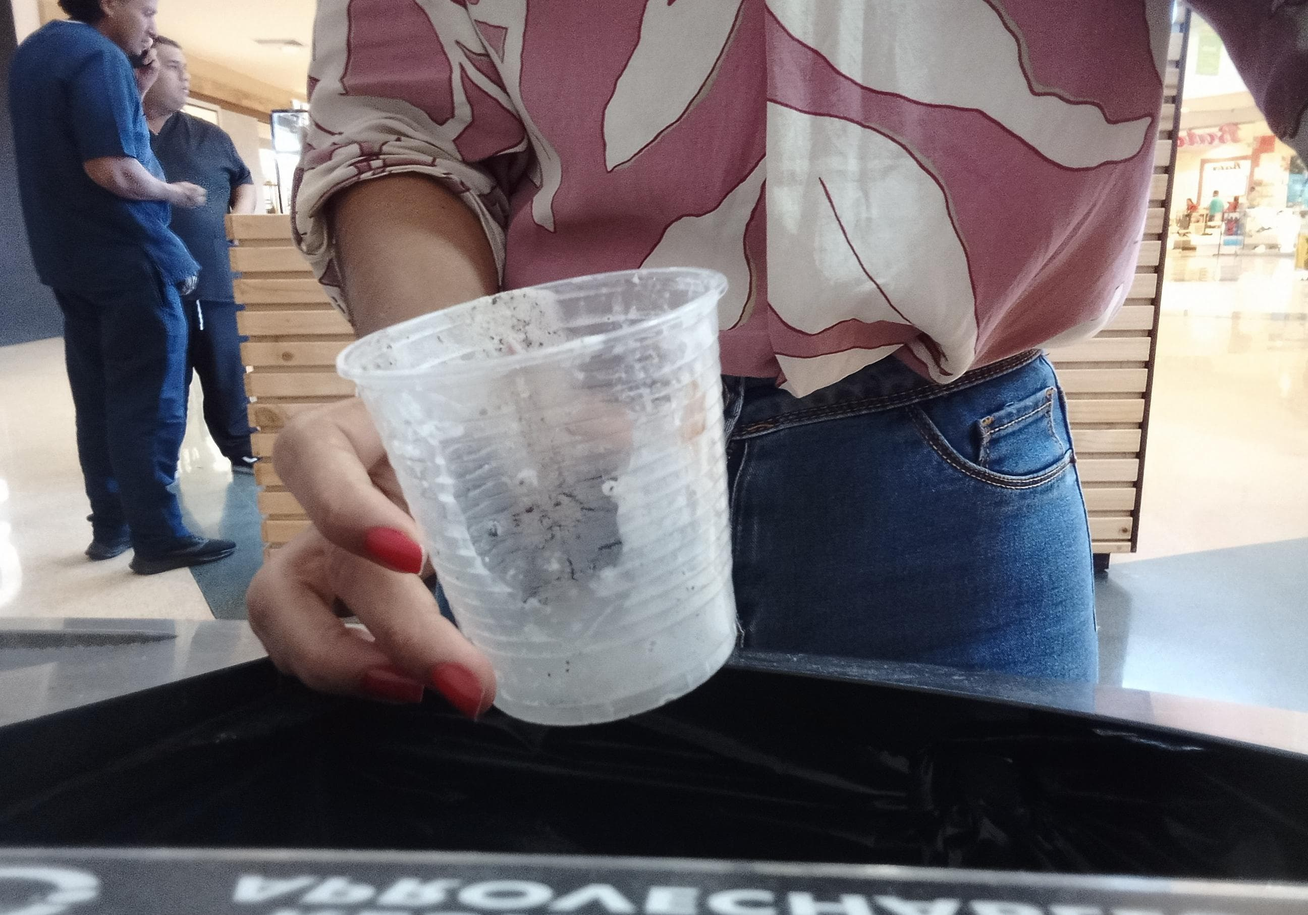Plastico: (336, 265, 740, 724)
